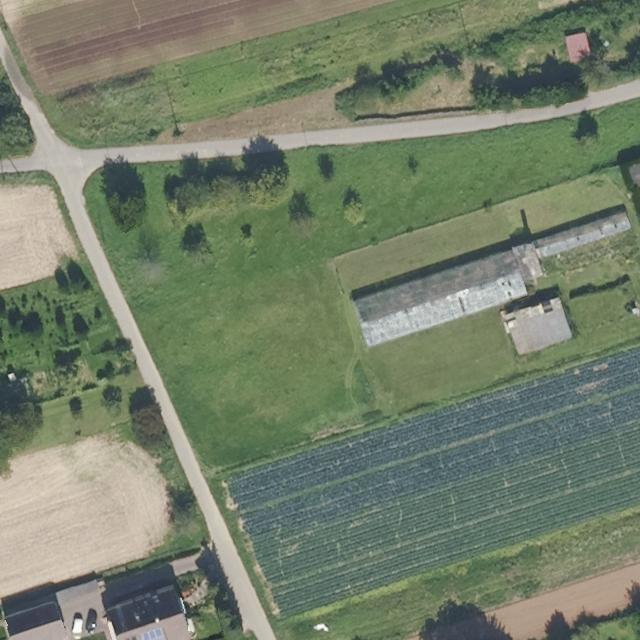PV: (142, 627, 162, 639)
